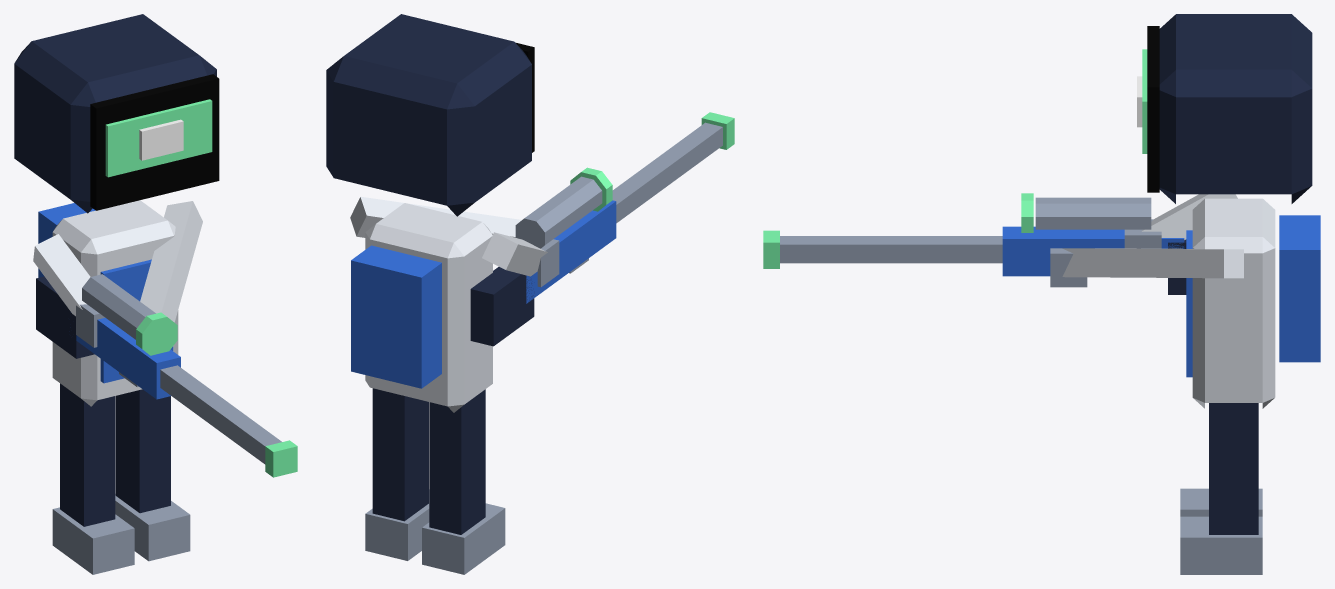
The model's file is sniper_enemy_r9.glb.
The picture shows the model from 3 angles, left to right: view 1: azimuth 30°, elevation 25°; view 2: azimuth 150°, elevation 25°; view 3: azimuth 270°, elevation 25°; orthographic projection. The views are drawn at different scales.
Parts seen in each view (by area): view 1: sniper_enemy_r9_mesh; view 2: sniper_enemy_r9_mesh; view 3: sniper_enemy_r9_mesh.
Boxes of the visible parts, box(x1,y1,x2,y2) form: sniper_enemy_r9_mesh: box(14, 14, 297, 574); sniper_enemy_r9_mesh: box(326, 14, 734, 574); sniper_enemy_r9_mesh: box(763, 14, 1320, 574).
Size of the model in its own units: 0.5986 by 1.7 by 1.69.
Materials: 1 (1 with a texture image).
